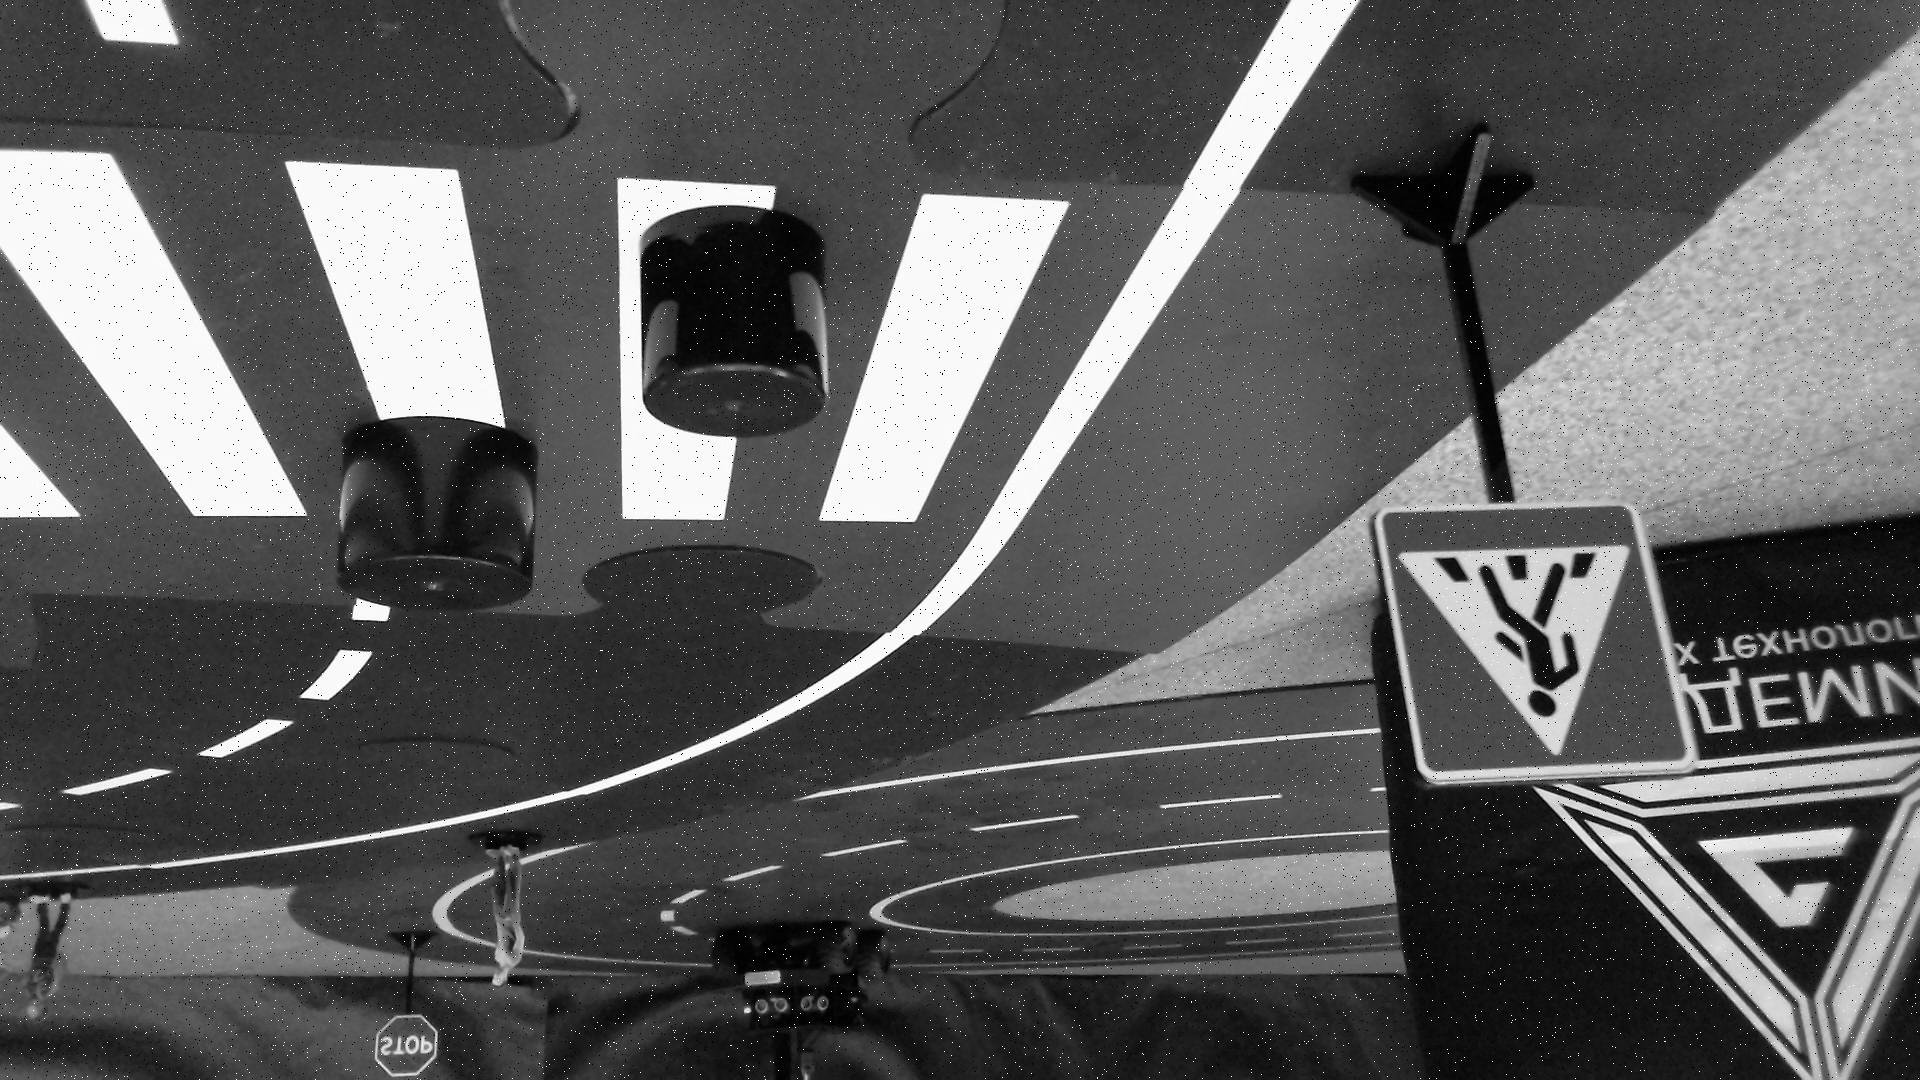barricade: (638, 204, 828, 438), (326, 414, 544, 616)
crossing: (0, 132, 1113, 538)
person: (14, 885, 78, 1028), (484, 837, 532, 990)
